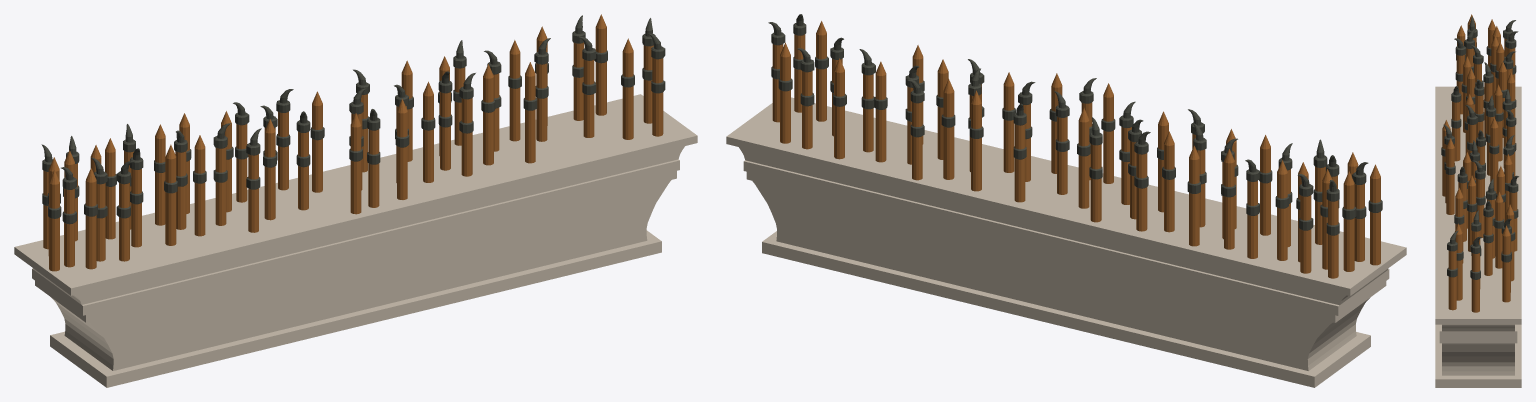
File: plataforma  spike.fbx
The picture shows the model from 3 angles, left to right: view 1: azimuth 30°, elevation 25°; view 2: azimuth 150°, elevation 25°; view 3: azimuth 270°, elevation 25°; orthographic projection. The views are drawn at different scales.
Parts seen in each view (by area): view 1: Cube.001; view 2: Cube.001; view 3: Cube.001.
Part boxes in pixels (x1=…): Cube.001: x1=14, y1=14, x2=697, y2=387; Cube.001: x1=726, y1=14, x2=1406, y2=387; Cube.001: x1=1435, y1=14, x2=1521, y2=387.
Bounding box in the file's own units: 22.55 × 7.14 × 3.54.
